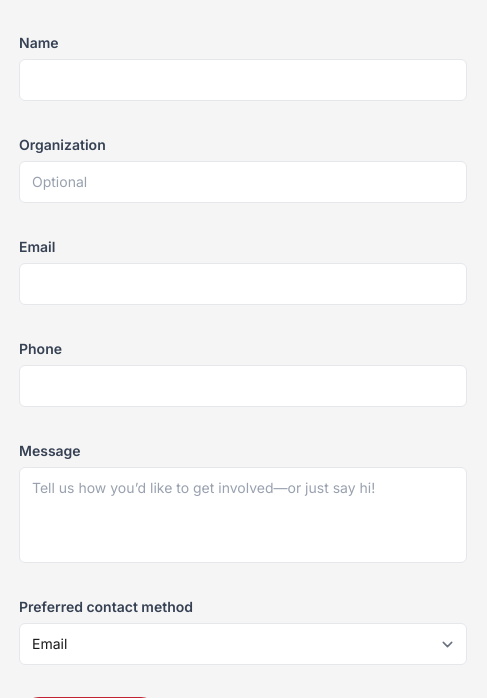
ContactForm › shows validation errors when given invalid form input
The width and height of the screenshot is (487, 698).
Type "F" into the field labelled "Name". click: (243, 80)
box: [19,59,467,101]
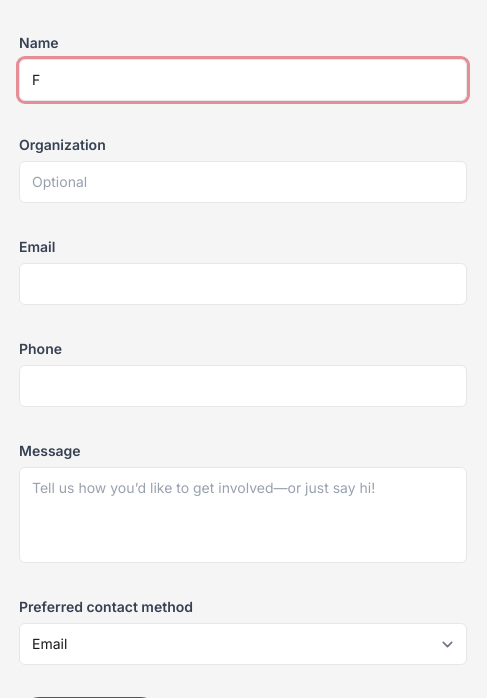
Type "nowayjose" into the field labelled "Email". click: (243, 284)
box: [19,263,467,305]
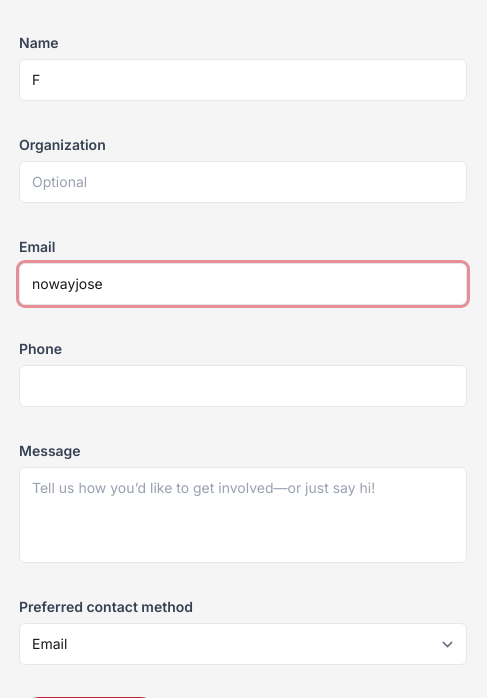
Type "123" into the field labelled "Phone". click: (243, 386)
box: [19,365,467,407]
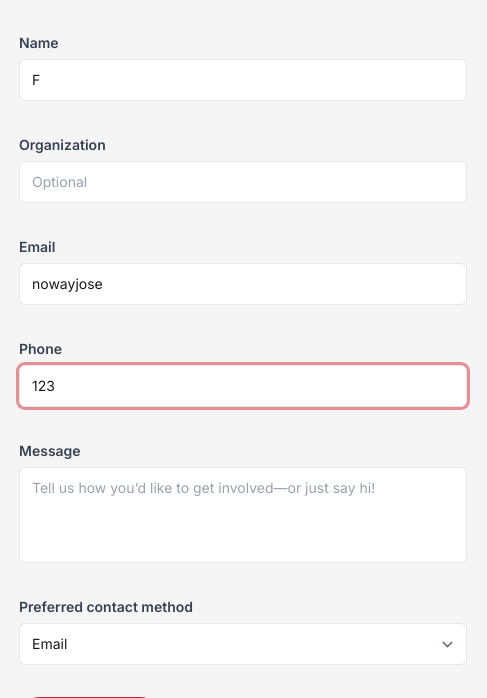
Type "a" into the text box labelled "Message". click: (243, 515)
box: [19,467,467,563]
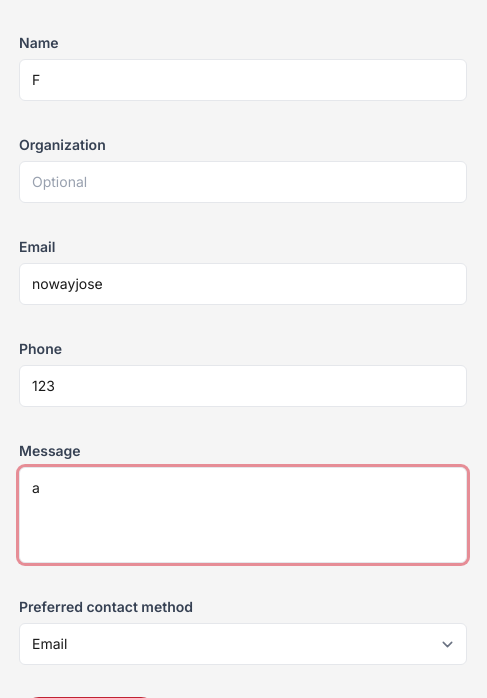
Select "Email" in the dropdown labelled "Preferred contact method". click: (243, 644)
box: [19,623,467,665]
(page scrolled)
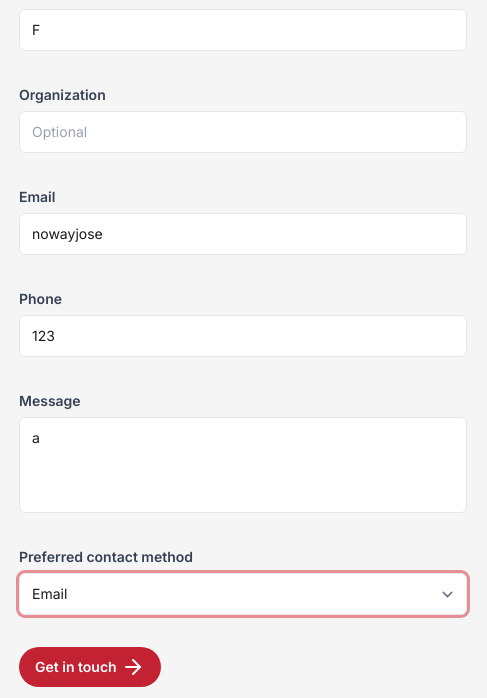
Click the button "Get in touch". click: (90, 667)
box: [19,647,161,687]
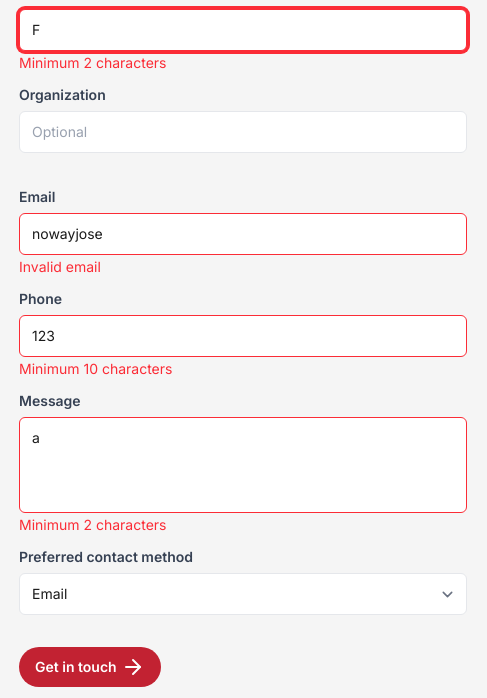
Now the text "Minimum 2 characters" is shown 2 times, box [19,51,166,75]; [19,513,166,537]
Now the text "Invalid email" is shown, box [19,255,101,279]
